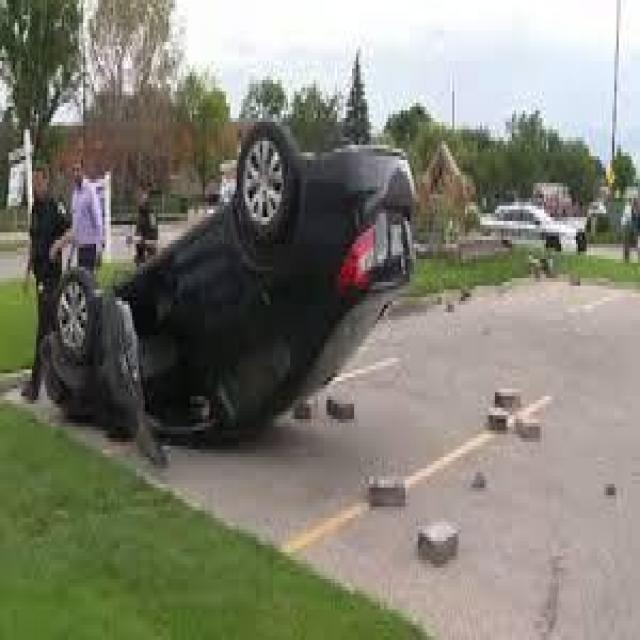accident: (30, 116, 422, 455)
